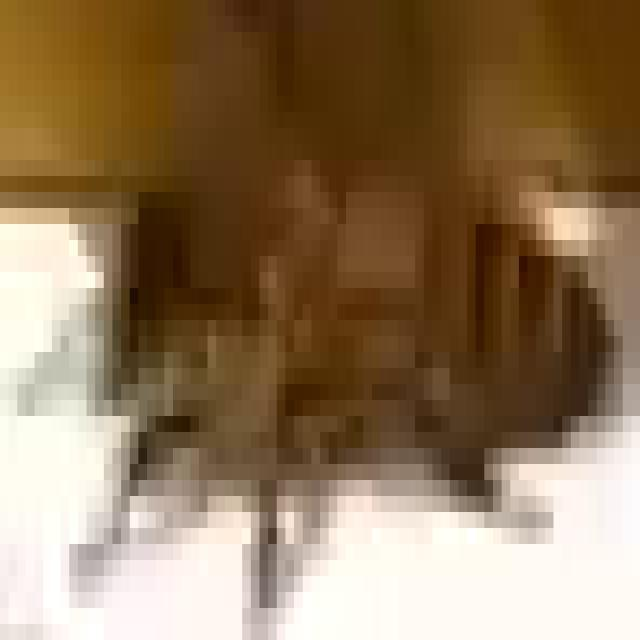honeybee: (14, 133, 630, 634)
